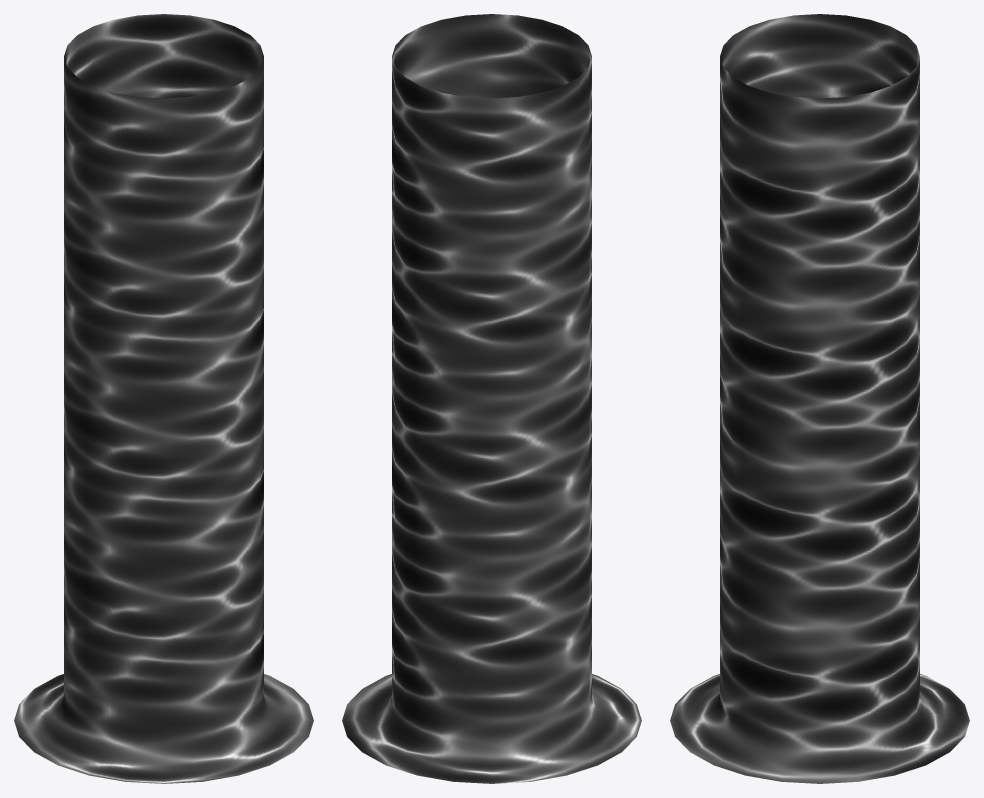
File: eff_Column04.fbx
3 views of the same model, side by side, from view 1: azimuth 30°, elevation 25°; view 2: azimuth 150°, elevation 25°; view 3: azimuth 270°, elevation 25° (orthographic).
Parts seen in each view (by area): view 1: eff_Column04_rear_msh, eff_Column04_front_msh; view 2: eff_Column04_front_msh, eff_Column04_rear_msh; view 3: eff_Column04_front_msh, eff_Column04_rear_msh.
Part boxes in pixels (left/top/right/bottom): eff_Column04_rear_msh: left=34, top=35, right=313, bottom=783; eff_Column04_front_msh: left=14, top=14, right=293, bottom=752; eff_Column04_front_msh: left=342, top=35, right=621, bottom=783; eff_Column04_rear_msh: left=362, top=14, right=641, bottom=752; eff_Column04_front_msh: left=820, top=14, right=969, bottom=783; eff_Column04_rear_msh: left=670, top=14, right=819, bottom=783.
Bounding box in the file's own units: 13.5 × 33 × 13.5.
